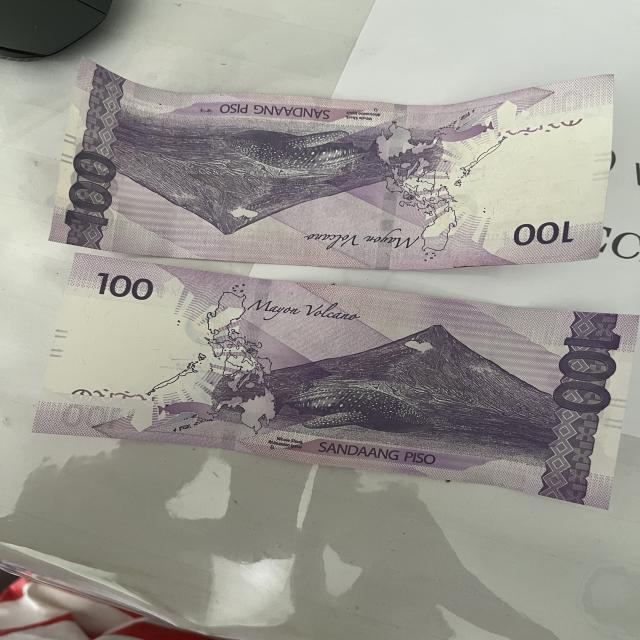100_whale: (251, 366, 446, 450), (218, 116, 390, 186)
100_whale_watermark: (148, 390, 237, 439), (422, 108, 494, 143)
watermark: (462, 106, 591, 240)
